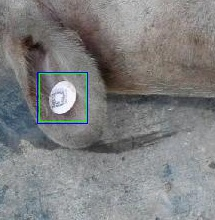text: (39, 73, 86, 121)
